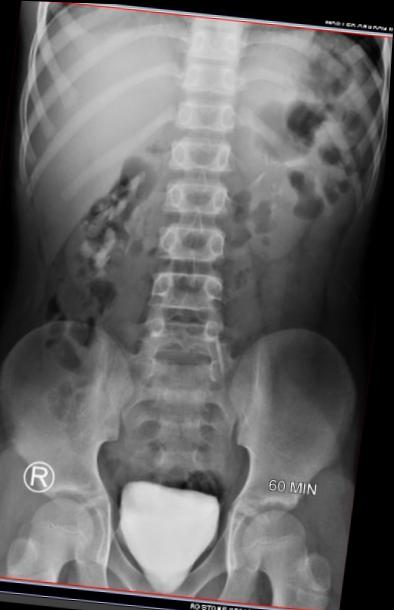bladder: (104, 478, 239, 602)
vertebrae: (166, 126, 235, 173)
